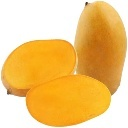mango: (74, 1, 128, 97), (24, 76, 112, 128), (1, 39, 77, 97)
